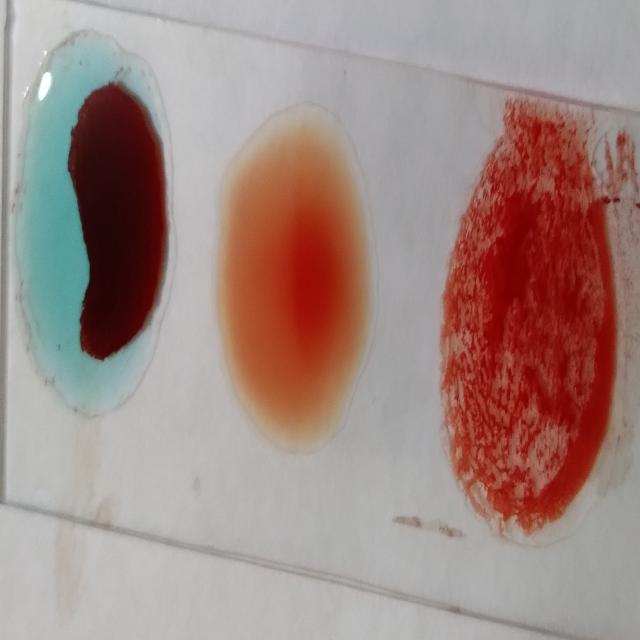A: (10, 26, 179, 422)
D: (443, 119, 614, 533)
